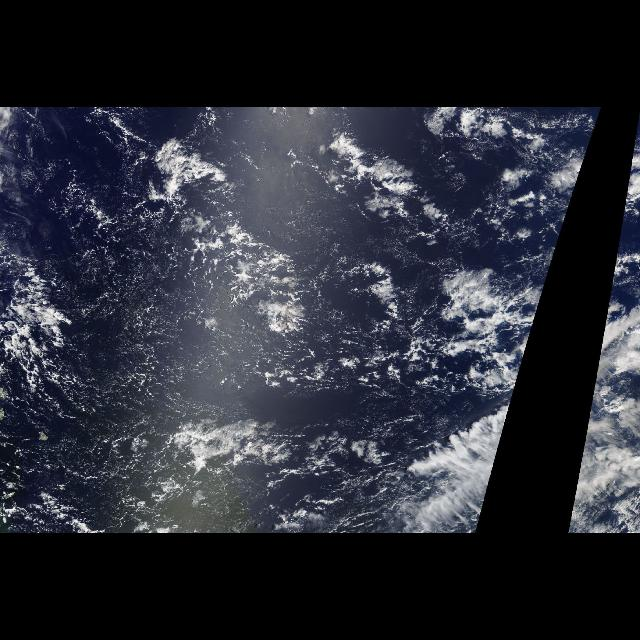Gravel: (0, 180, 390, 532)
Sugar: (78, 202, 235, 410), (8, 423, 182, 522)
